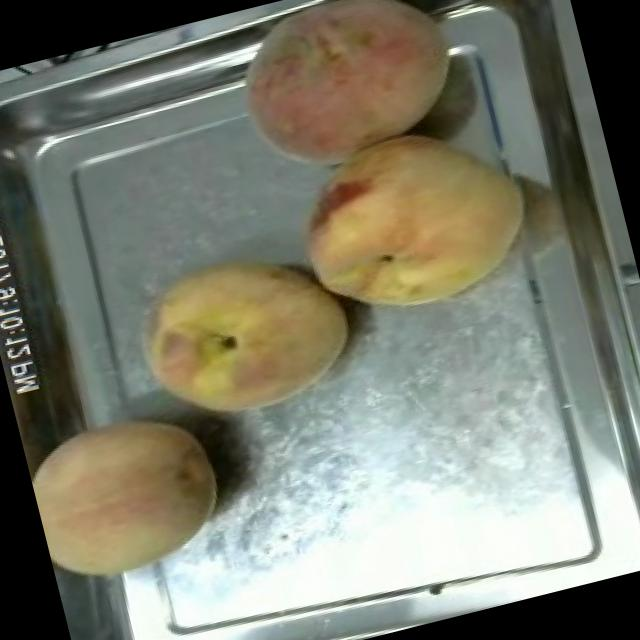Fruit: (270, 100, 548, 342), (112, 225, 372, 446), (216, 0, 484, 193), (19, 388, 246, 603)
